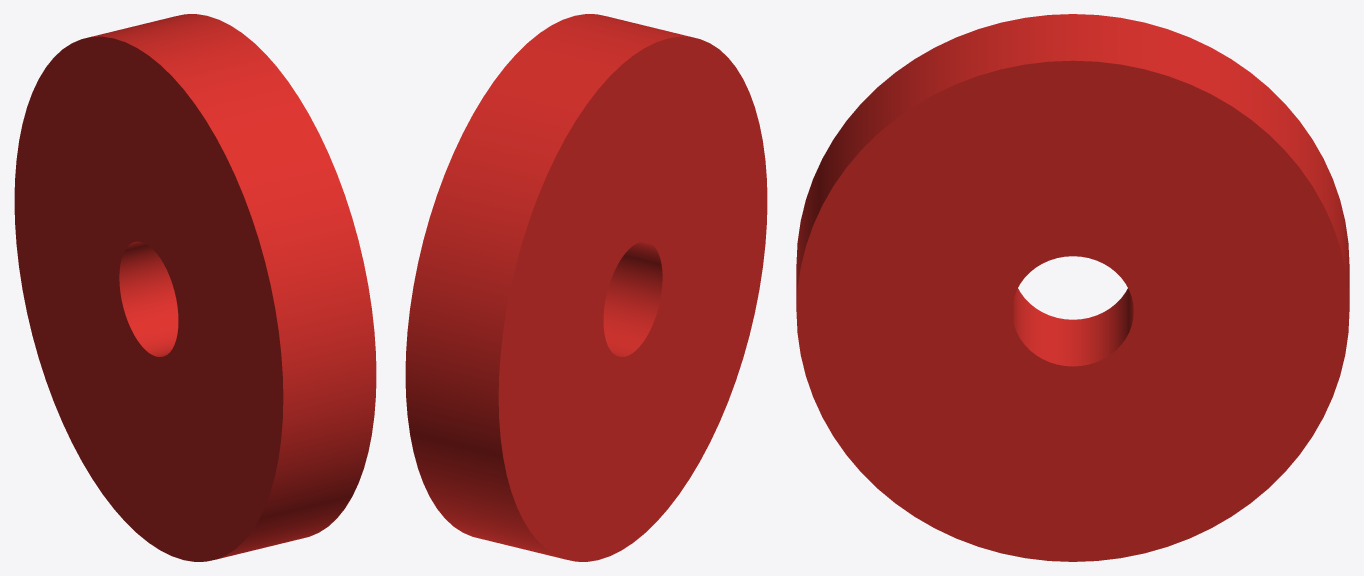
The model's file is bs2303-3-main-cap-red-5p5mm.glb.
3 renders of one model, left to right at view 1: azimuth 30°, elevation 25°; view 2: azimuth 150°, elevation 25°; view 3: azimuth 270°, elevation 25°, orthographic. The views are drawn at different scales.
Visible parts, largest first — view 1: Main_Cap_BS2303_3_Red_5_5mm_Functional_Geometry; view 2: Main_Cap_BS2303_3_Red_5_5mm_Functional_Geometry; view 3: Main_Cap_BS2303_3_Red_5_5mm_Functional_Geometry.
Part boxes in pixels (bbox=[...]): Main_Cap_BS2303_3_Red_5_5mm_Functional_Geometry: bbox=[14, 14, 376, 561]; Main_Cap_BS2303_3_Red_5_5mm_Functional_Geometry: bbox=[405, 14, 767, 561]; Main_Cap_BS2303_3_Red_5_5mm_Functional_Geometry: bbox=[796, 14, 1349, 561].
Size of the model in its own units: 0.005 by 0.025 by 0.025.
